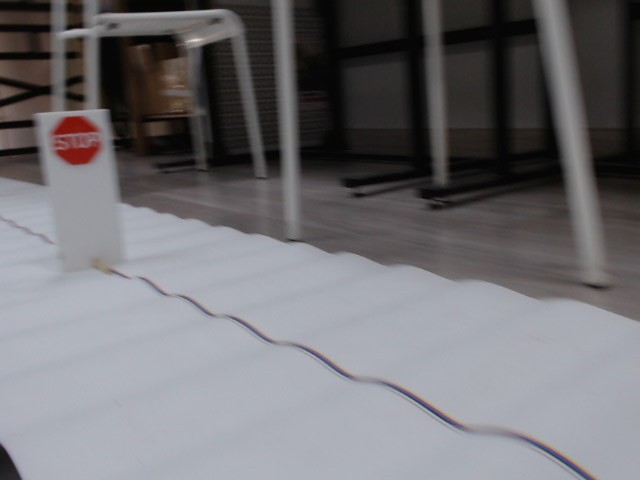Stop: (50, 117, 105, 165)
